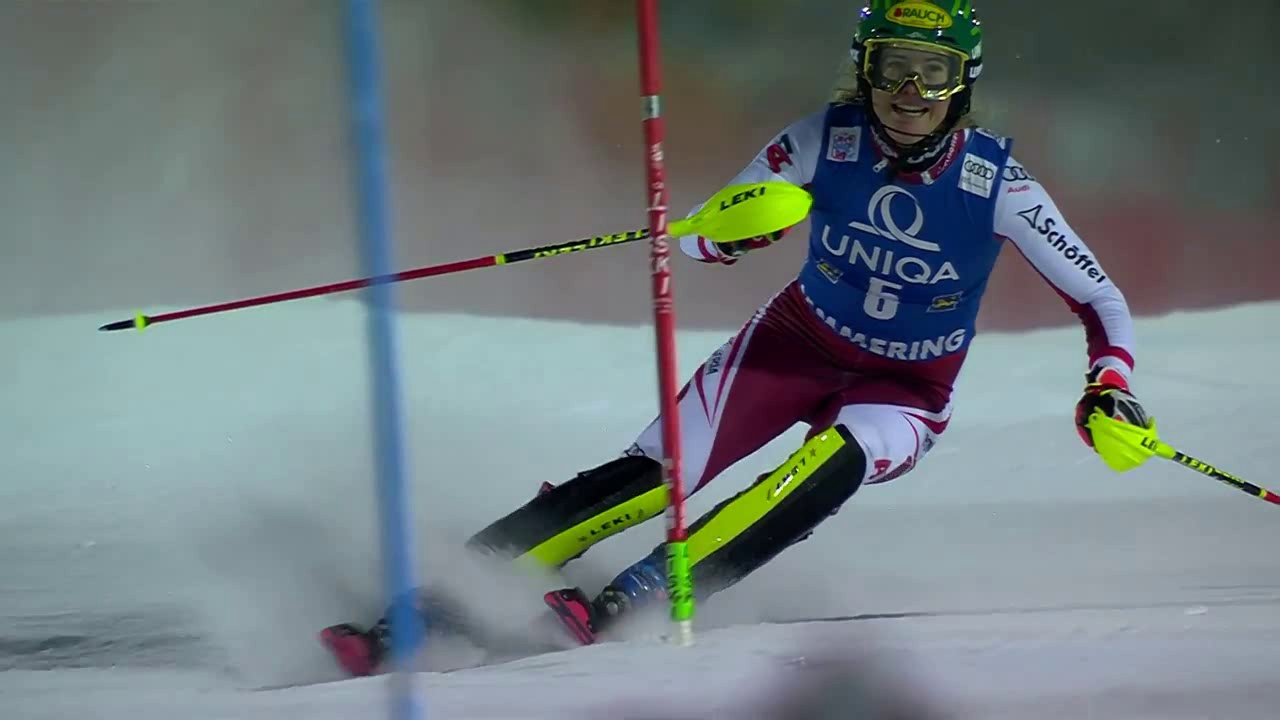a1: (763, 133, 801, 177)
uniqa: (829, 191, 961, 291)
